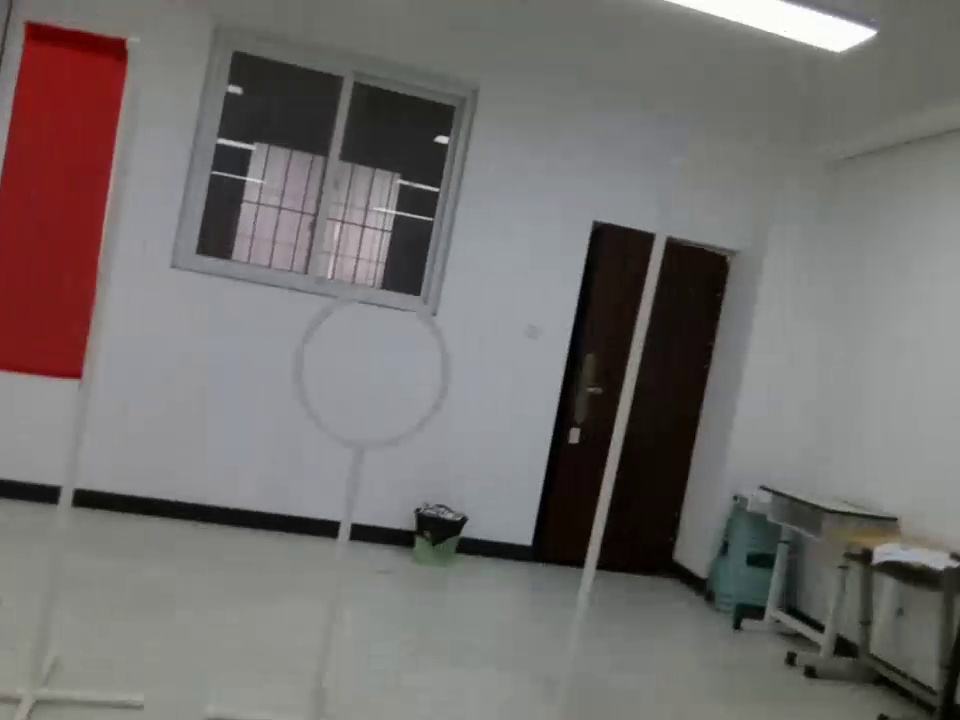qi: (2, 11, 146, 479)
quan: (288, 274, 452, 476)
